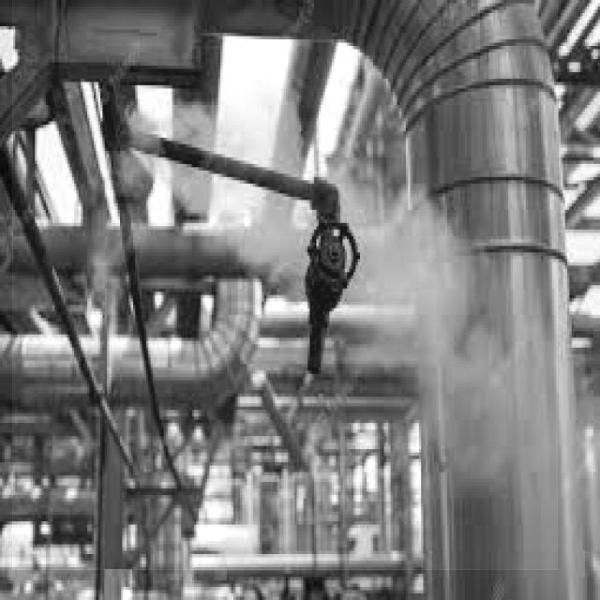gas: (12, 0, 558, 570), (105, 0, 133, 600)
